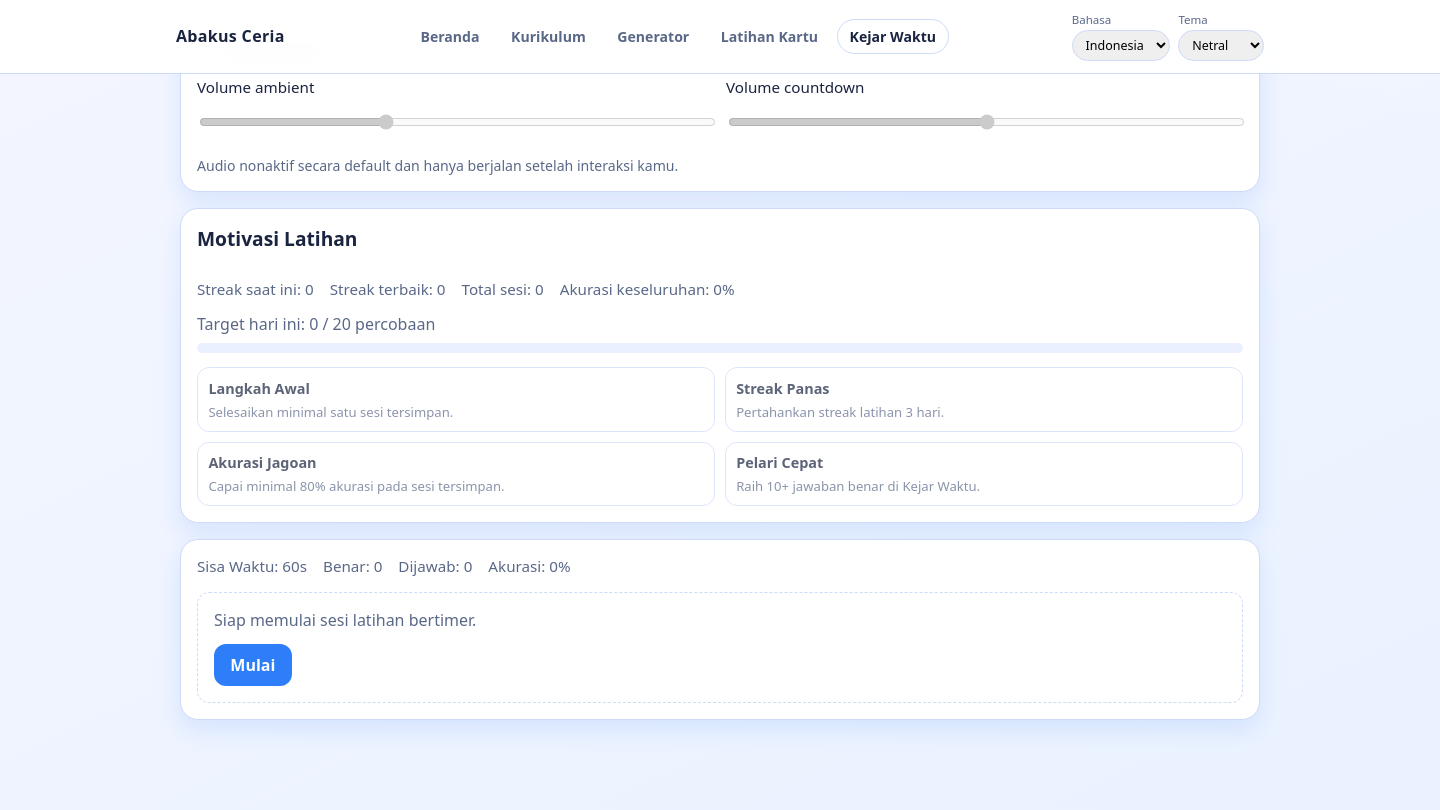
Test: Practice pages › runs time attack and finishes when timer reaches zero
(page scrolled)
Step 1. Click the button "Mulai" → coordinates (253, 665), box top-left (214, 644), bottom-right (292, 686)
Wait 60000 ms
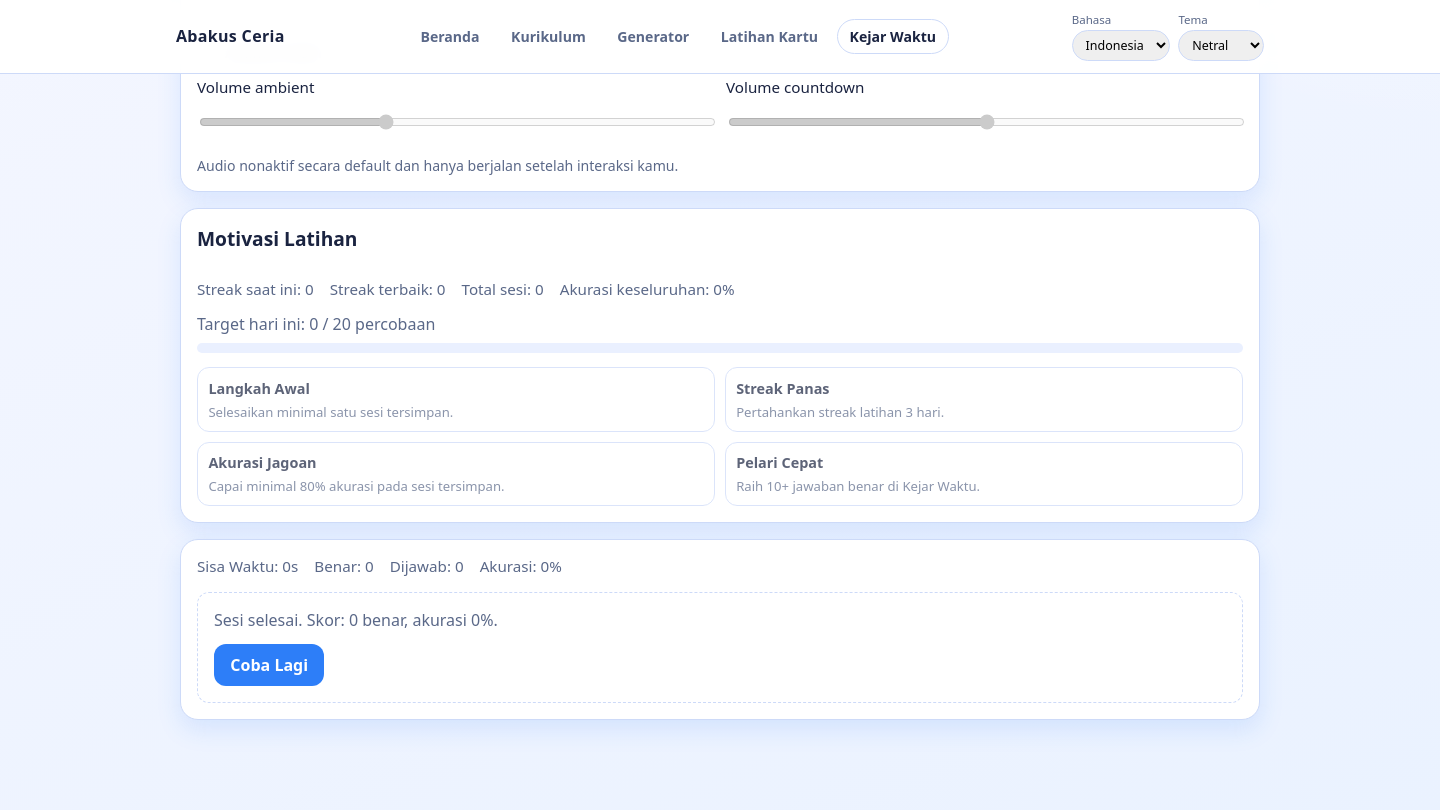
Result: the text "Sesi selesai. Skor: 0 benar, akurasi 0%." is shown at top-left (214, 609), bottom-right (498, 631)
